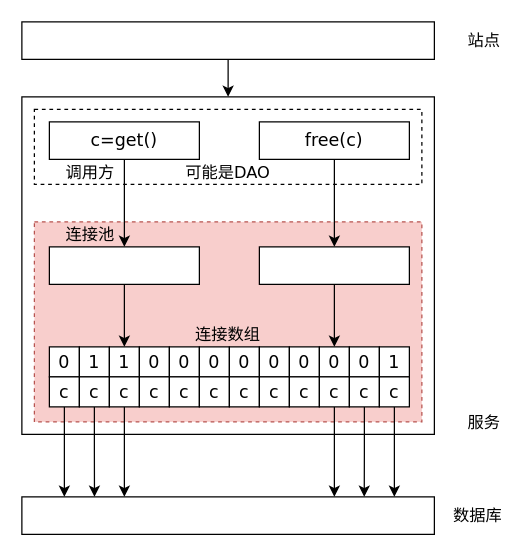
Some shapes in this 531 by 556 pixel diagram are drawn without their labels. Each missing label, with the centre of its shape:
"FreeConnection" belongs at point (333, 265).
"GetConnection" belongs at point (123, 265).
"mongo DB" belongs at point (227, 515).
"php/SpringMVC" belongs at point (227, 40).
